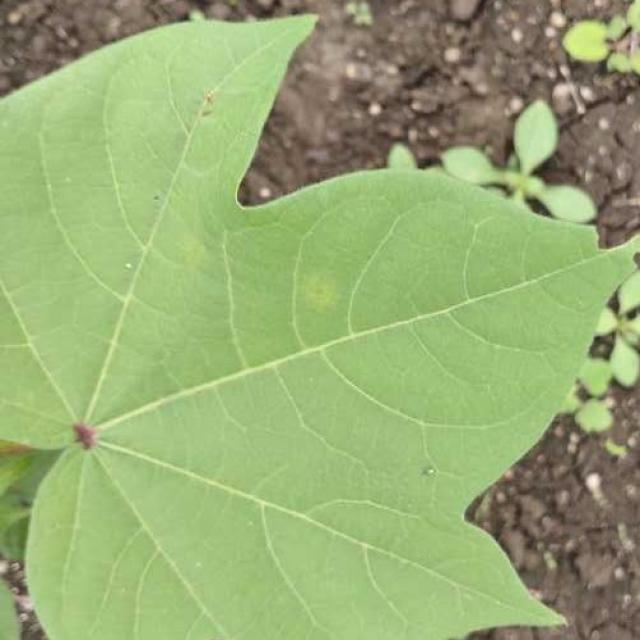Healthy Leaf: (79, 92, 242, 534)
